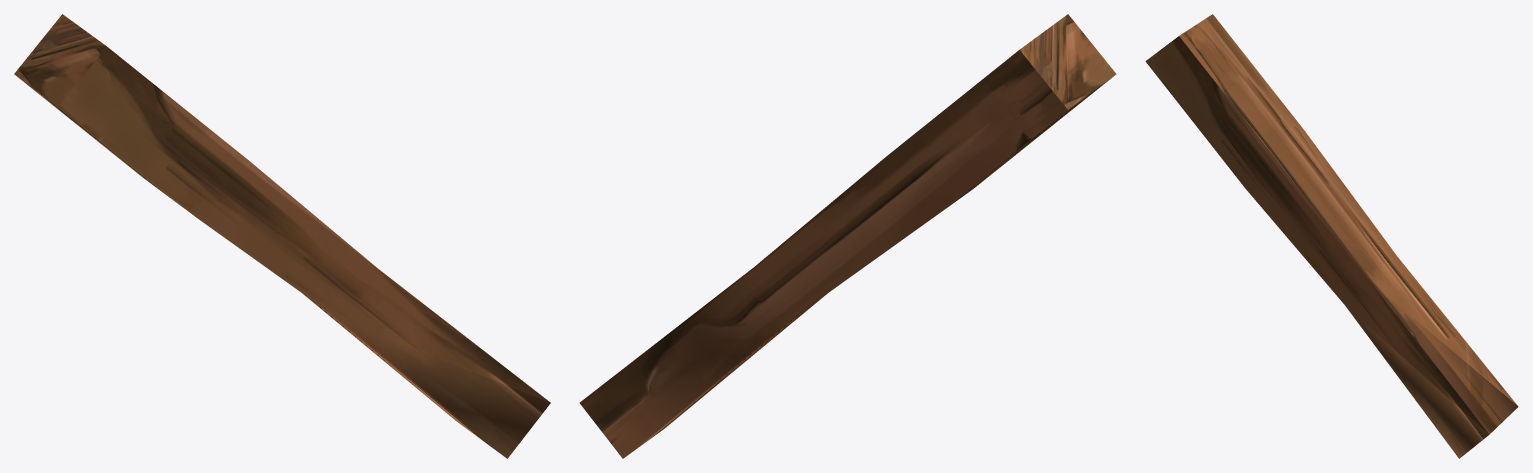
Rendered from Slanted_Beam.fbx.
The picture shows the model from 3 angles, left to right: view 1: azimuth 30°, elevation 25°; view 2: azimuth 150°, elevation 25°; view 3: azimuth 330°, elevation 25°; orthographic projection. The views are drawn at different scales.
Visible parts, largest first — view 1: 1_SlantedBeam; view 2: 1_SlantedBeam; view 3: 1_SlantedBeam.
Boxes of the visible parts, left/top/right/bottom form: 1_SlantedBeam: left=14, top=14, right=550, bottom=458; 1_SlantedBeam: left=579, top=14, right=1116, bottom=458; 1_SlantedBeam: left=1145, top=14, right=1518, bottom=458.
Bounding box in the file's own units: 79.48 × 78.68 × 13.36.
